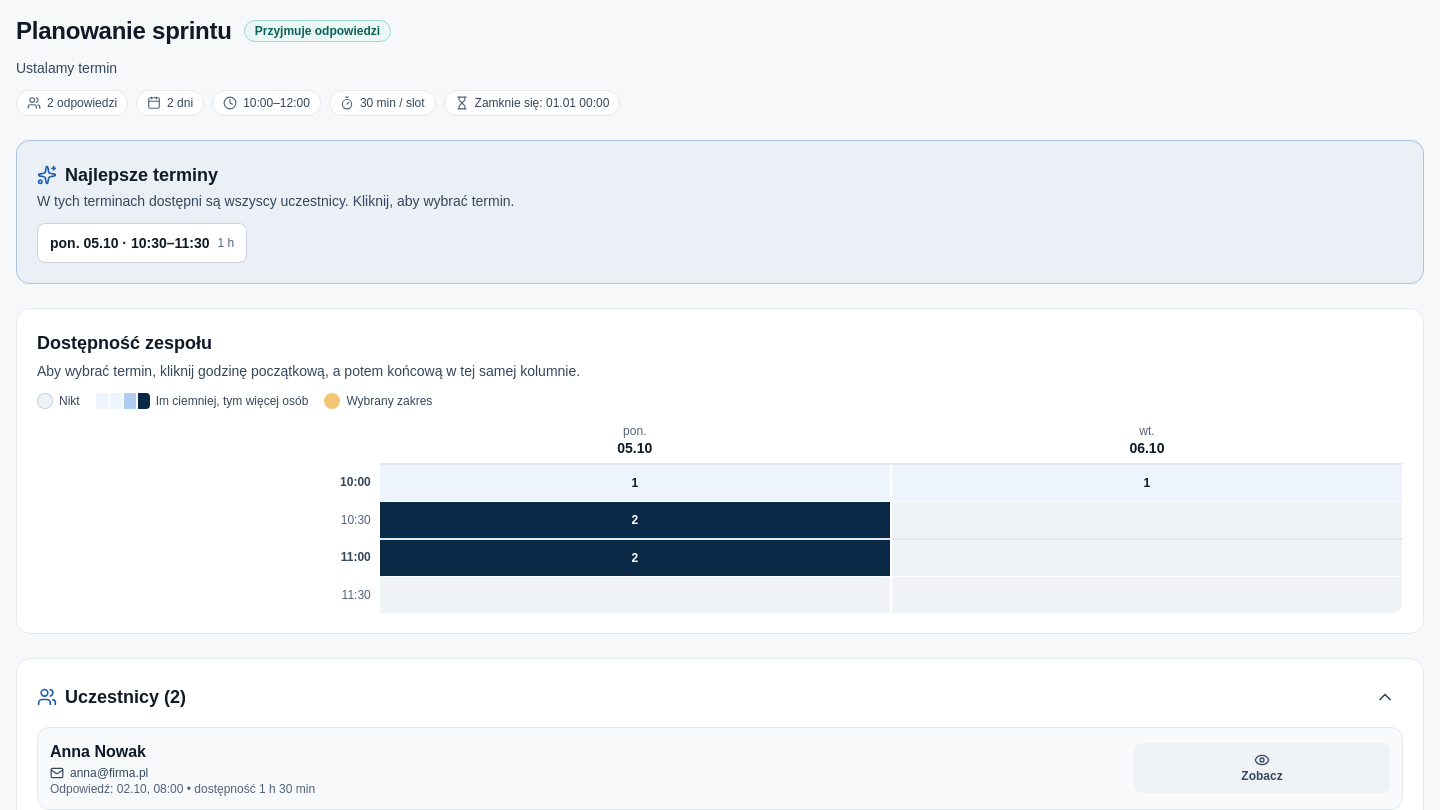
MeetingPollResults › wybór najlepszego terminu otwiera panel z dostępnymi osobami
Check: the heading "Planowanie sprintu" is shown, box [16,16,232,46]
Click the button "pon. 05.10 · 10:30–11:30 1 h" at x=142, y=243, box [37,223,247,263]
(page scrolled)
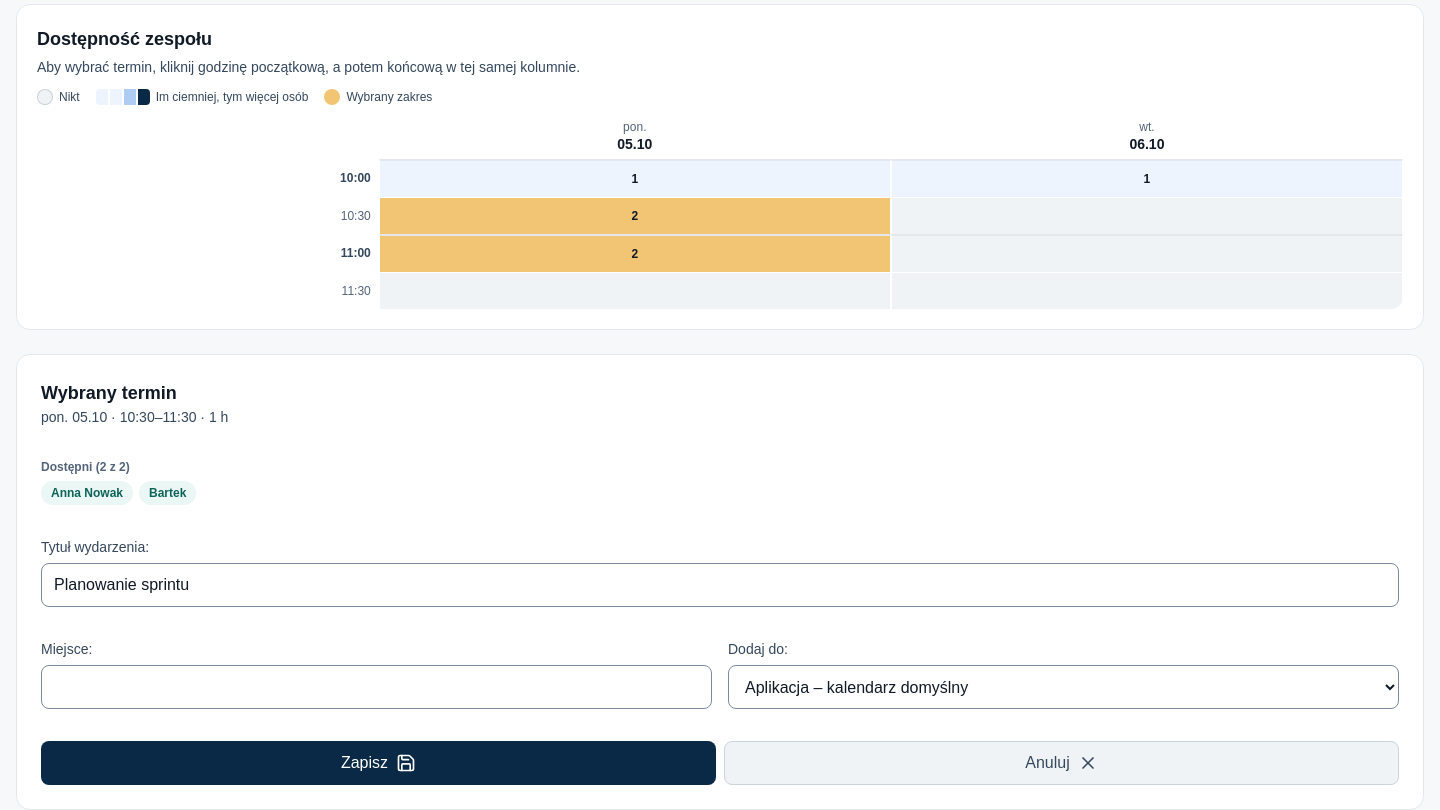
Check: the text "pon. 05.10 · 10:30–11:30 · 1 h" is shown, box [41,409,228,425]
Check: the list item "Anna Nowak" is shown, box [41,481,133,505]
Check: the list item "Bartek" is shown, box [139,481,196,505]
